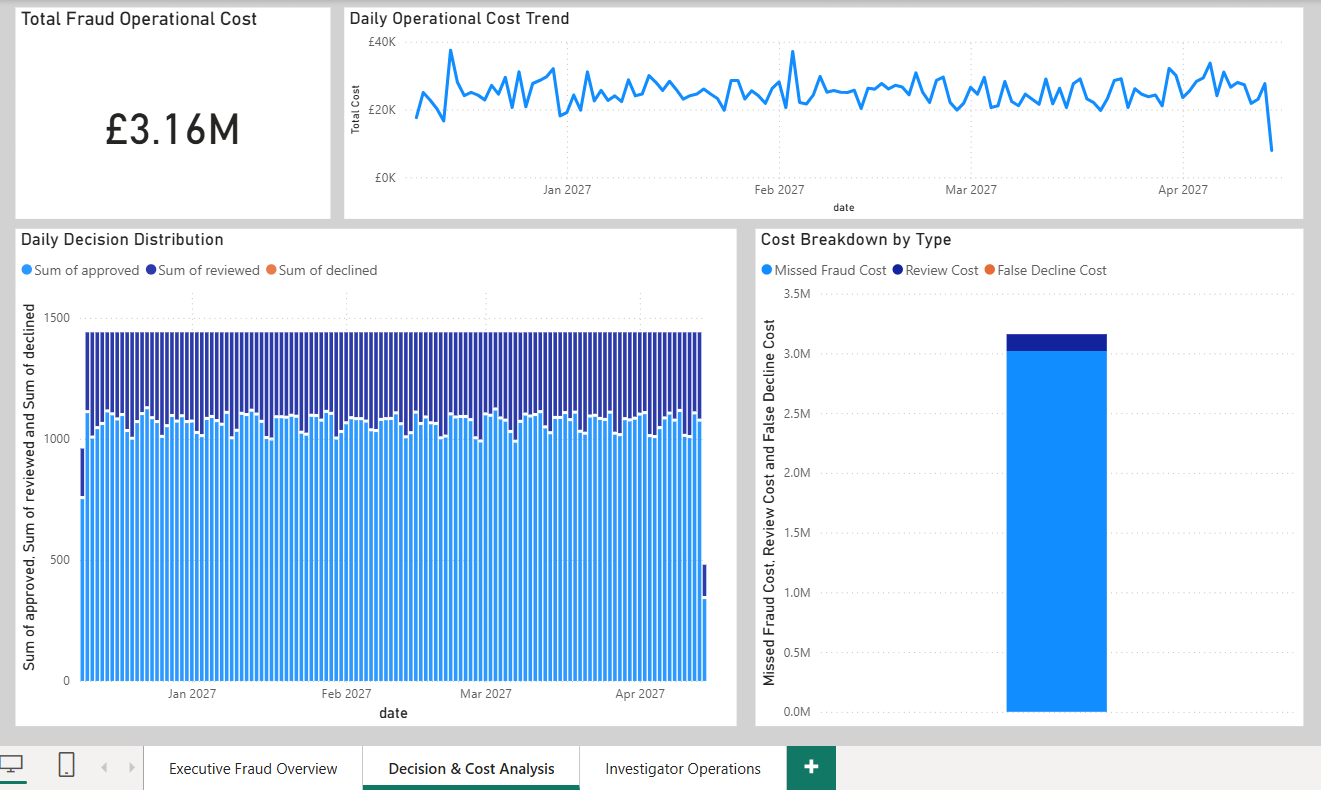

Layout of this report page (visuals, bound fields, positions):
{"tool":"powerbi","page":{"name":"Decision & Cost Analysis","canvas":[1280,720],"ordinal":1},"visuals":[{"type":"columnChart","title":"Daily Decision Distribution","fields":{"Y":["Sum(daily_kpis.approved)","Sum(daily_kpis.reviewed)","Sum(daily_kpis.declined)"],"Category":["daily_kpis.date"]},"box":[16.9,220.8,696.1,480.2],"z":0},{"type":"card","title":"Total Fraud Operational Cost","fields":{"Values":["daily_kpis.Total Cost"]},"box":[16.9,7.2,304,203.9],"z":1000},{"type":"lineChart","title":"Daily Operational Cost Trend","fields":{"Y":["daily_kpis.Total Cost"],"Category":["daily_kpis.date"]},"box":[334.2,7.2,925.3,203.9],"z":2000},{"type":"columnChart","title":"Cost Breakdown by Type","fields":{"Y":["daily_kpis.Missed Fraud Cost","daily_kpis.Review Cost","daily_kpis.False Decline Cost"]},"box":[731.1,220.8,528.4,480.2],"z":3000}]}

Visuals, with their boxes on the page's 1280x720 design canvas (x1, y1, x2, y2). These are canvas units, not pixel positions in the 1321x790 screenshot, which may show the page scaled, cropped or inside an application window:
"Daily Decision Distribution" columnChart: {"left": 17, "top": 221, "right": 713, "bottom": 701}
"Total Fraud Operational Cost" card: {"left": 17, "top": 7, "right": 321, "bottom": 211}
"Daily Operational Cost Trend" lineChart: {"left": 334, "top": 7, "right": 1260, "bottom": 211}
"Cost Breakdown by Type" columnChart: {"left": 731, "top": 221, "right": 1260, "bottom": 701}
